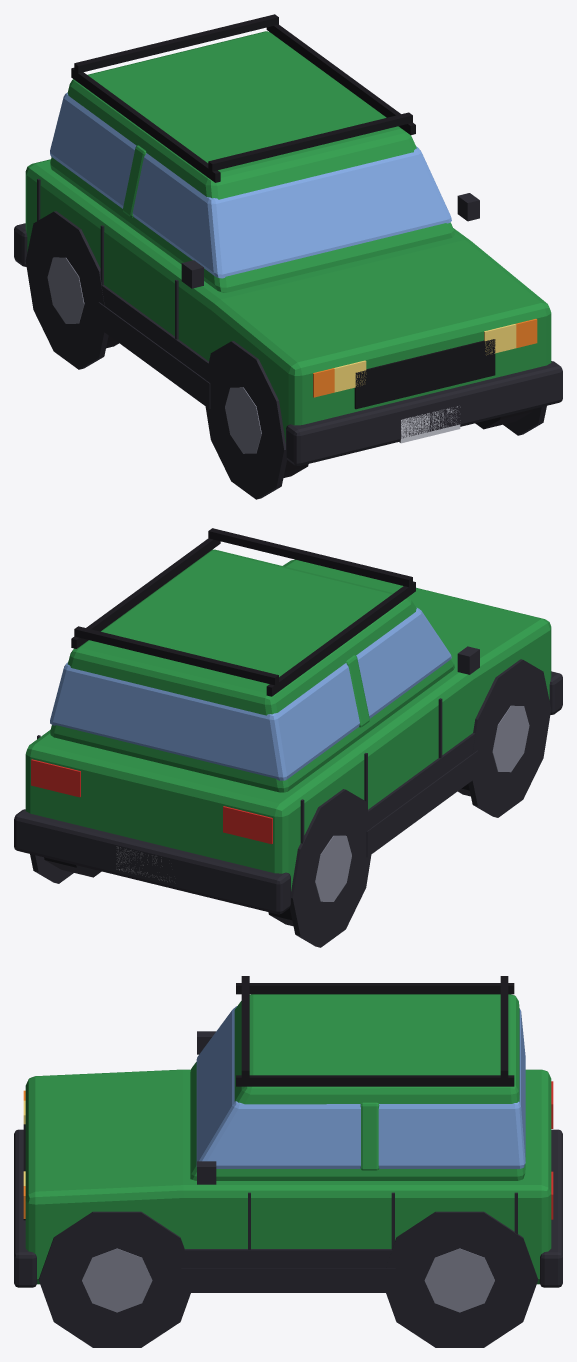
Rendered from suv.glb.
3 views of the same model, one above another, from view 1: azimuth 30°, elevation 25°; view 2: azimuth 150°, elevation 25°; view 3: azimuth 270°, elevation 25° (orthographic). The views are drawn at different scales.
Parts seen in each view (by area): view 1: Suv; view 2: Suv; view 3: Suv.
Boxes of the visible parts, box(x1,y1,x2,y2) form: Suv: box(14, 14, 562, 499); Suv: box(14, 528, 562, 947); Suv: box(14, 976, 562, 1347).
Size of the model in its own units: 1.65 by 1.48 by 2.82.
Materials: 1 (1 with a texture image).
